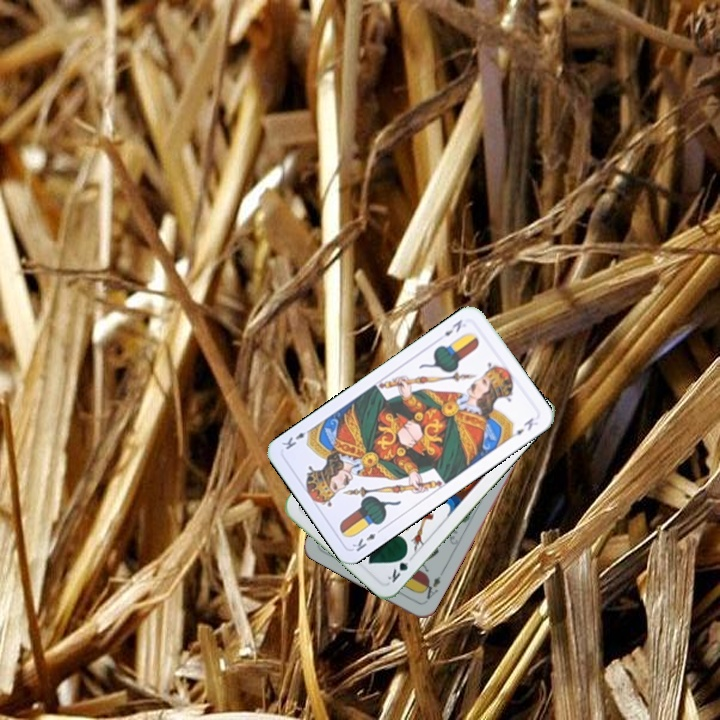EA: (418, 572, 443, 605)
EK: (348, 524, 386, 554), (440, 315, 465, 339)
GK: (383, 549, 416, 585)
